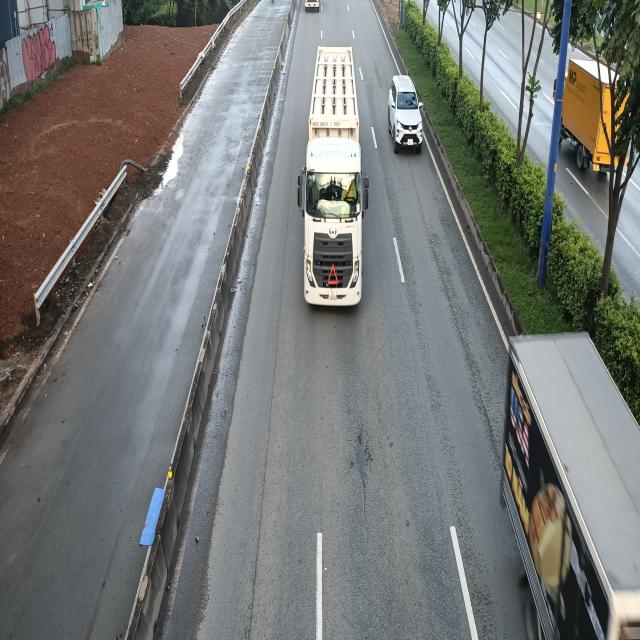car: (388, 74, 423, 154)
container: (294, 49, 368, 313)
